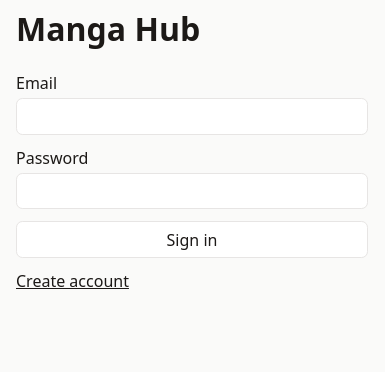
Test: AC3: failed sign-in shows the API message and stays on the form
Type "demo@manga.local" into the field labelled "Email".
click(192, 116); type("demo@manga.local")  # box x1=16 y1=98 x2=368 y2=135
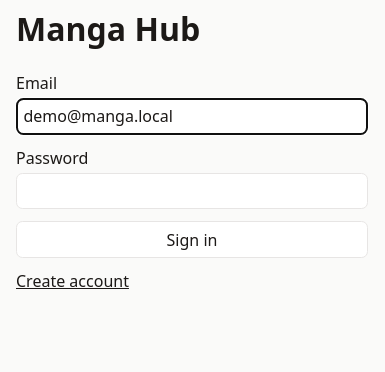
Type "demo-password-1" into the password field labelled "Password".
click(192, 191); type("demo-password-1")  # box x1=16 y1=173 x2=368 y2=210
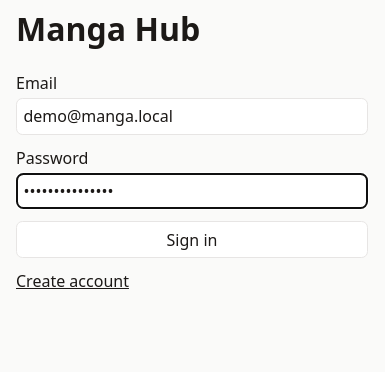
Click the button "Sign in".
click(192, 240)  # box x1=16 y1=221 x2=368 y2=258
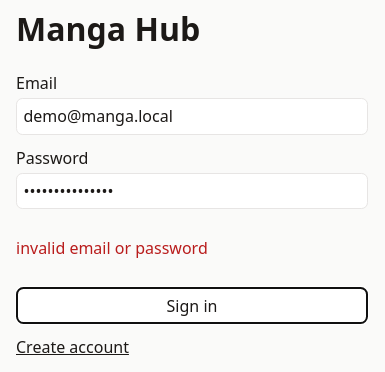
Check: the message reads "invalid email or password", box x1=16 y1=237 x2=208 y2=259
